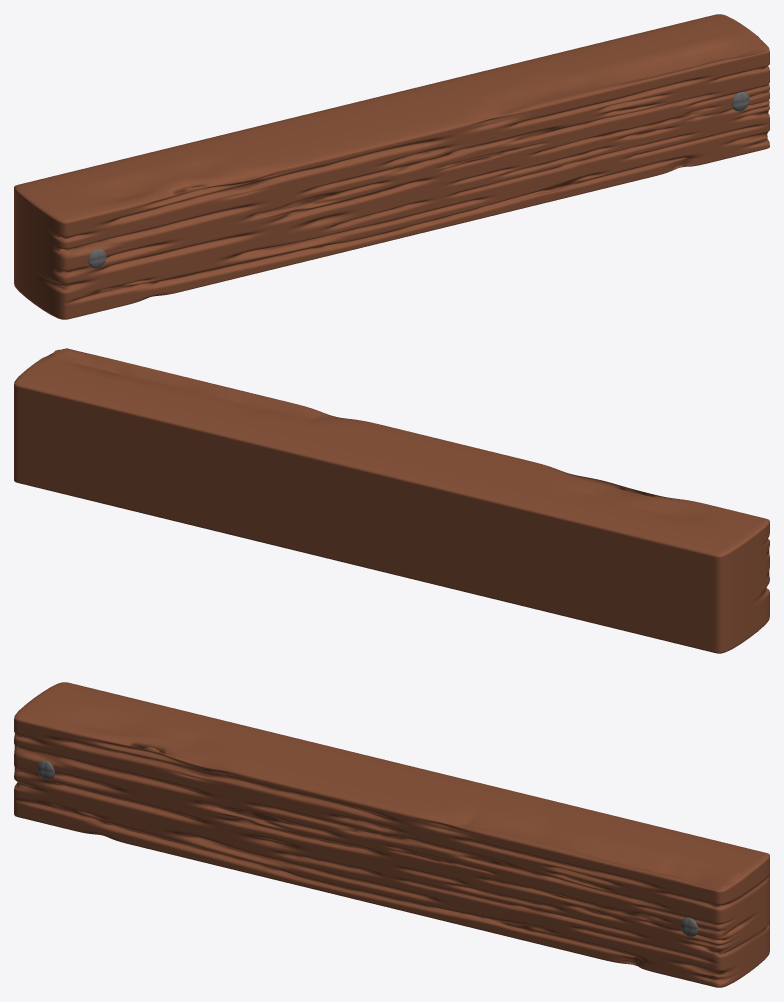
The model's file is planche 1.fbx.
3 views of the same model, one above another, from view 1: azimuth 30°, elevation 25°; view 2: azimuth 150°, elevation 25°; view 3: azimuth 330°, elevation 25° (orthographic).
Visible parts, largest first — view 1: Sphere.001; view 2: Sphere.001; view 3: Sphere.001.
Boxes of the visible parts, left/top/right/bottom form: Sphere.001: left=14, top=14, right=769, bottom=319; Sphere.001: left=14, top=348, right=769, bottom=653; Sphere.001: left=14, top=682, right=769, bottom=987.
Size of the model in its own units: 534 by 72.46 by 68.33.
